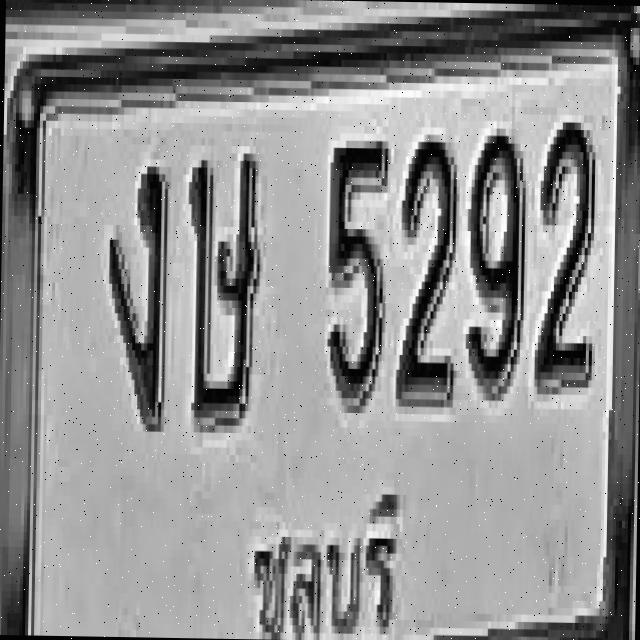16NgorNgu: (103, 158, 168, 424)
2: (534, 115, 596, 388), (395, 134, 457, 400)
48SorRueSi: (184, 145, 262, 426)
5: (326, 132, 388, 406)
9: (466, 128, 525, 394)
Chonburi: (245, 461, 405, 640)
